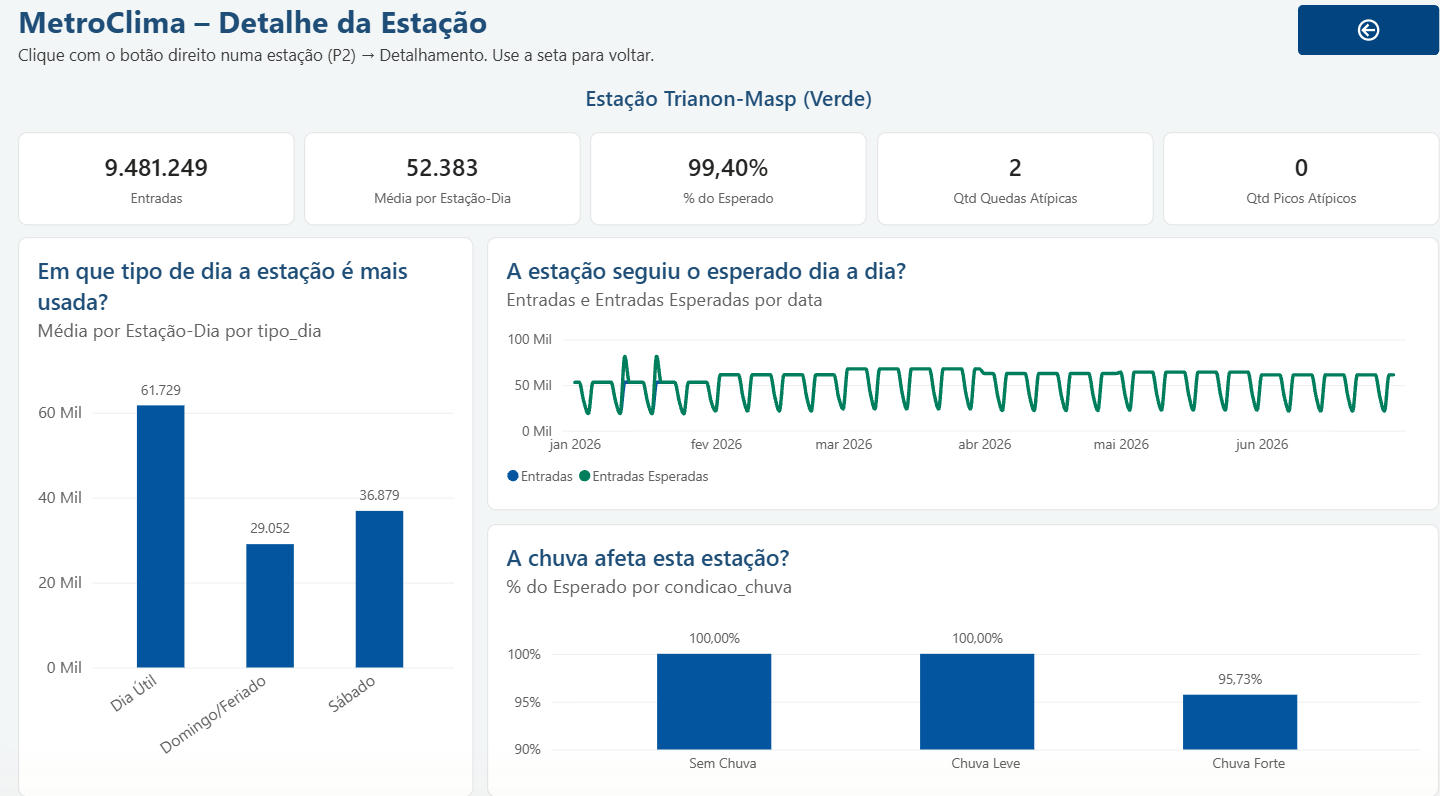

This screenshot's page, from the dashboard's own definition file:
{"tool":"powerbi","page":{"name":"Detalhe da Estação","canvas":[1280,720],"ordinal":3},"visuals":[{"type":"textbox","box":[16,8,900,40],"z":0},{"type":"textbox","box":[16,46,900,28],"z":1000},{"type":"actionButton","box":[1140,12,124,44],"z":2000},{"type":"card","fields":{"Values":["_Medidas.Título Estação"]},"box":[16,72,1248,50],"z":3000},{"type":"card","fields":{"Values":["_Medidas.Entradas"]},"box":[16,124,243,82],"z":4000},{"type":"card","fields":{"Values":["_Medidas.Média por Estação-Dia"]},"box":[267,124,243,82],"z":5000},{"type":"card","fields":{"Values":["_Medidas.% do Esperado"]},"box":[518,124,243,82],"z":6000},{"type":"card","fields":{"Values":["_Medidas.Qtd Quedas Atípicas"]},"box":[770,124,243,82],"z":7000},{"type":"card","fields":{"Values":["_Medidas.Qtd Picos Atípicos"]},"box":[1021,124,243,82],"z":8000},{"type":"clusteredColumnChart","title":"Em que tipo de dia a estação é mais usada?","fields":{"Category":["fato_entradas.tipo_dia"],"Y":["_Medidas.Média por Estação-Dia"]},"box":[16,216,400,492],"z":9000},{"type":"lineChart","title":"A estação seguiu o esperado dia a dia?","fields":{"Category":["dim_tempo.data"],"Y":["_Medidas.Entradas","_Medidas.Entradas Esperadas"]},"box":[428,216,836,240],"z":10000},{"type":"clusteredColumnChart","title":"A chuva afeta esta estação?","fields":{"Category":["dim_clima.condicao_chuva"],"Y":["_Medidas.% do Esperado"]},"box":[428,468,836,240],"z":11000}]}

Visuals, with their boxes in screenshot pixels (x1, y1, x2, y2), scaled from the page's 1280x720 canvas onto the 1440x796 screenshot:
textbox: pyautogui.locateOnScreen(18, 9, 1030, 53)
textbox: pyautogui.locateOnScreen(18, 51, 1030, 82)
actionButton: pyautogui.locateOnScreen(1282, 13, 1422, 62)
card - _Medidas.Título Estação: pyautogui.locateOnScreen(18, 80, 1422, 135)
card - _Medidas.Entradas: pyautogui.locateOnScreen(18, 137, 291, 228)
card - _Medidas.Média por Estação-Dia: pyautogui.locateOnScreen(300, 137, 574, 228)
card - _Medidas.% do Esperado: pyautogui.locateOnScreen(583, 137, 856, 228)
card - _Medidas.Qtd Quedas Atípicas: pyautogui.locateOnScreen(866, 137, 1140, 228)
card - _Medidas.Qtd Picos Atípicos: pyautogui.locateOnScreen(1149, 137, 1422, 228)
"Em que tipo de dia a estação é mais usada?" clusteredColumnChart: pyautogui.locateOnScreen(18, 239, 468, 783)
"A estação seguiu o esperado dia a dia?" lineChart: pyautogui.locateOnScreen(482, 239, 1422, 504)
"A chuva afeta esta estação?" clusteredColumnChart: pyautogui.locateOnScreen(482, 517, 1422, 783)
